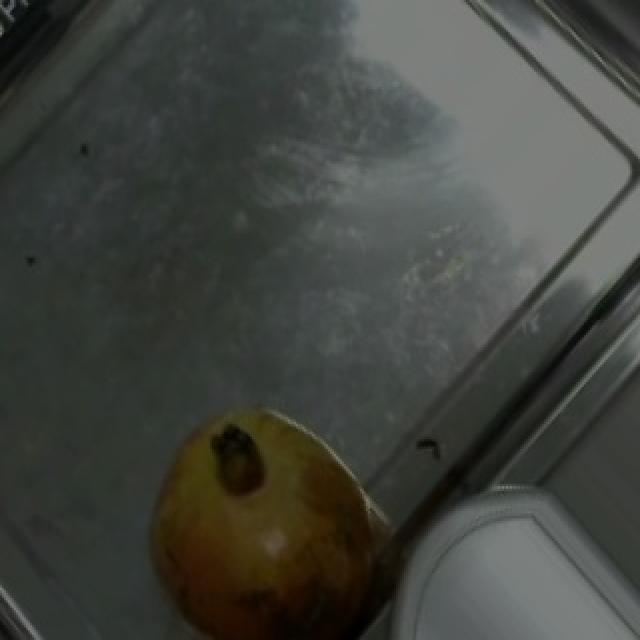fruit: (116, 377, 404, 640)
